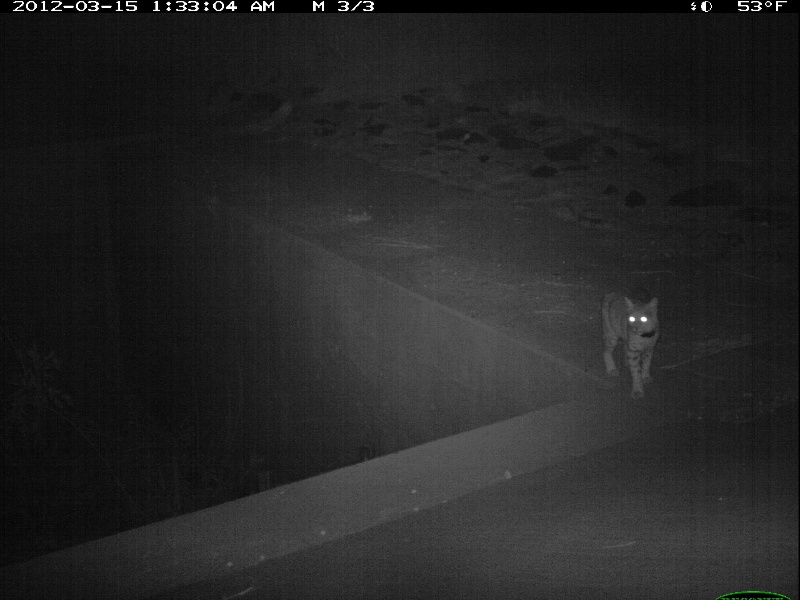cat: (596, 291, 664, 401)
